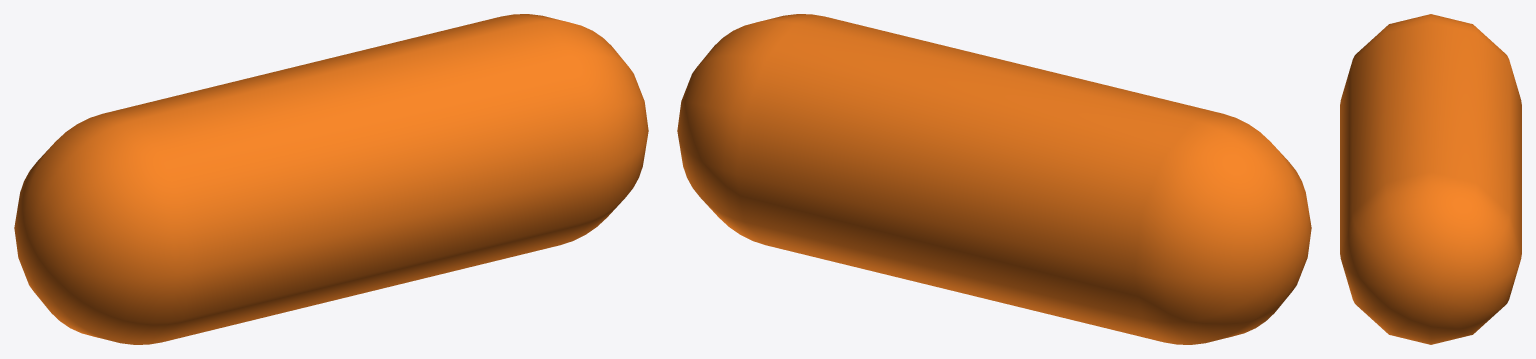
3 views of the same model, side by side, from view 1: azimuth 30°, elevation 25°; view 2: azimuth 150°, elevation 25°; view 3: azimuth 270°, elevation 25° (orthographic). The views are drawn at different scales.
Parts seen in each view (by area): view 1: gripper_frame; view 2: gripper_frame; view 3: gripper_frame.
Part boxes in pixels (x1,y1,x2,y2): gripper_frame: (14,14,648,344); gripper_frame: (677,14,1311,344); gripper_frame: (1340,14,1521,344).
Size of the model in its own units: 0.0177 by 0.006 by 0.006.
